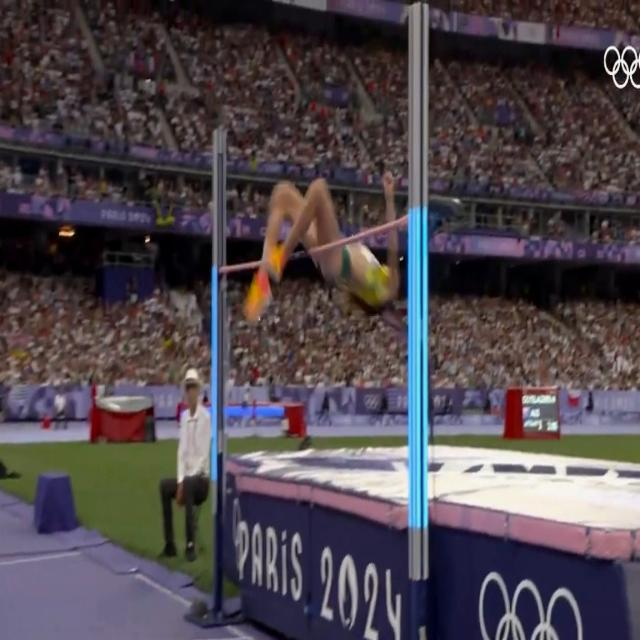jump: (246, 180, 400, 323)
